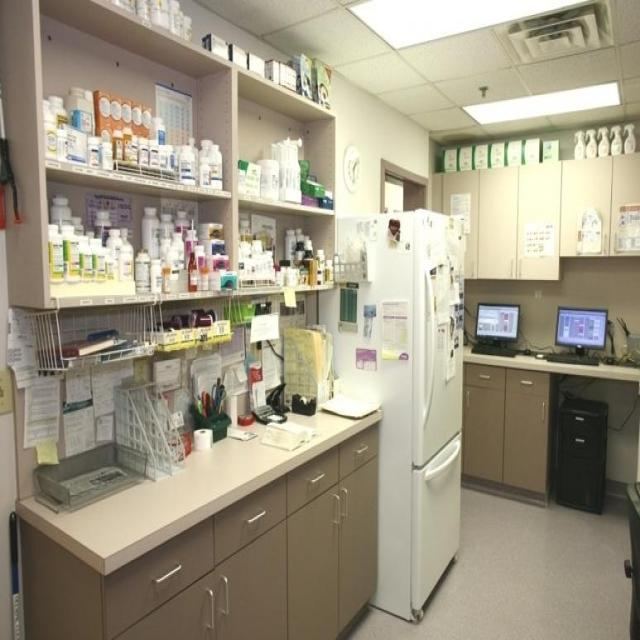E-waste: (469, 291, 625, 374)
Medical Waste: (28, 0, 356, 305)
Metal: (30, 293, 171, 381)
Plastics: (13, 379, 188, 504)
